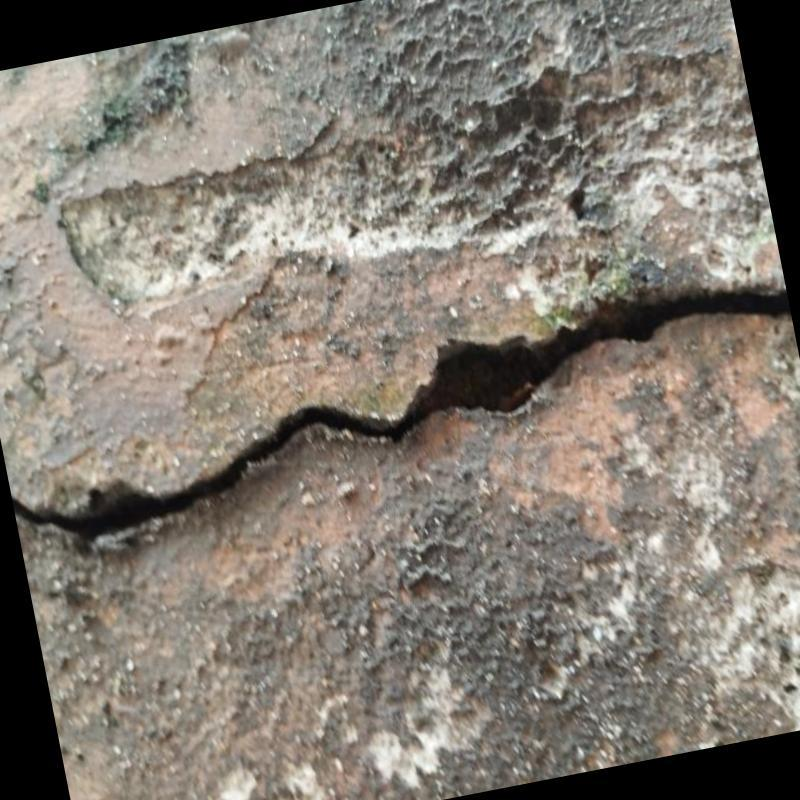crack: (12, 291, 791, 539)
